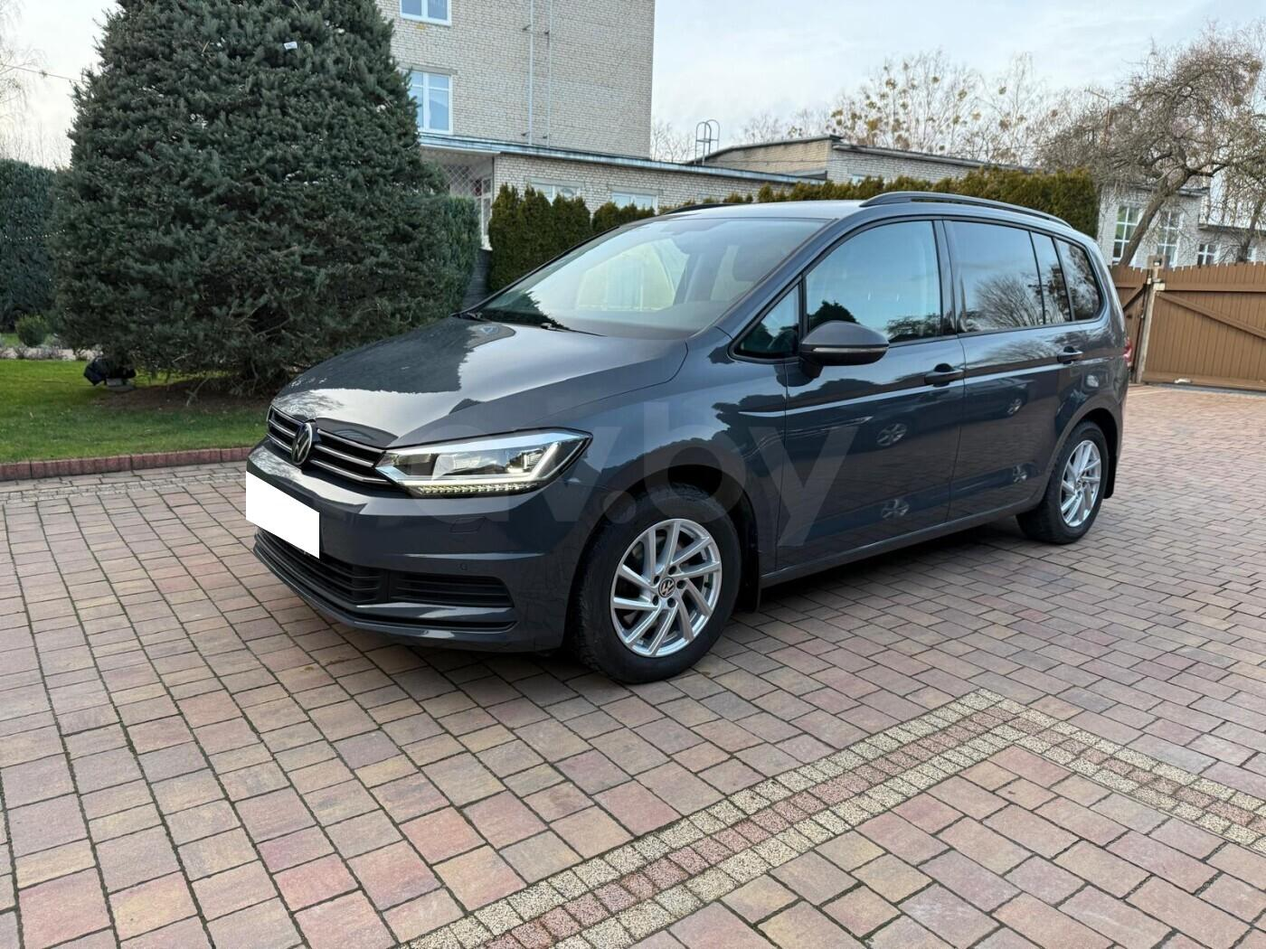Touran_2015: (239, 194, 1136, 680)
